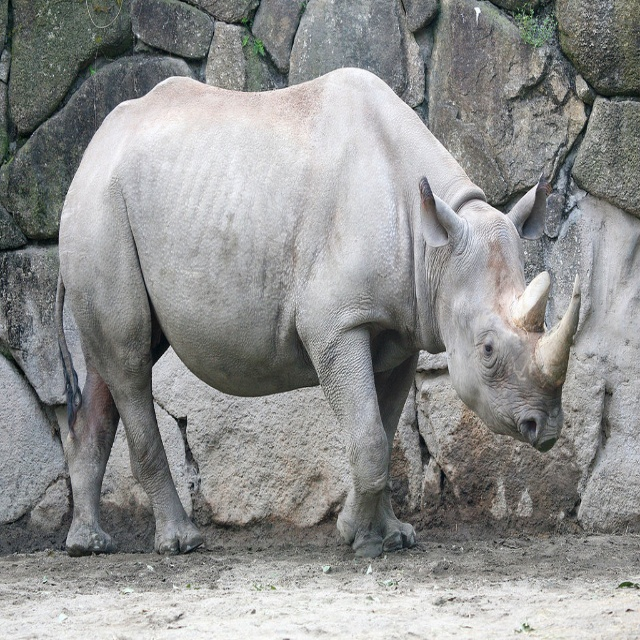Rhinoceros: (50, 59, 580, 552)
